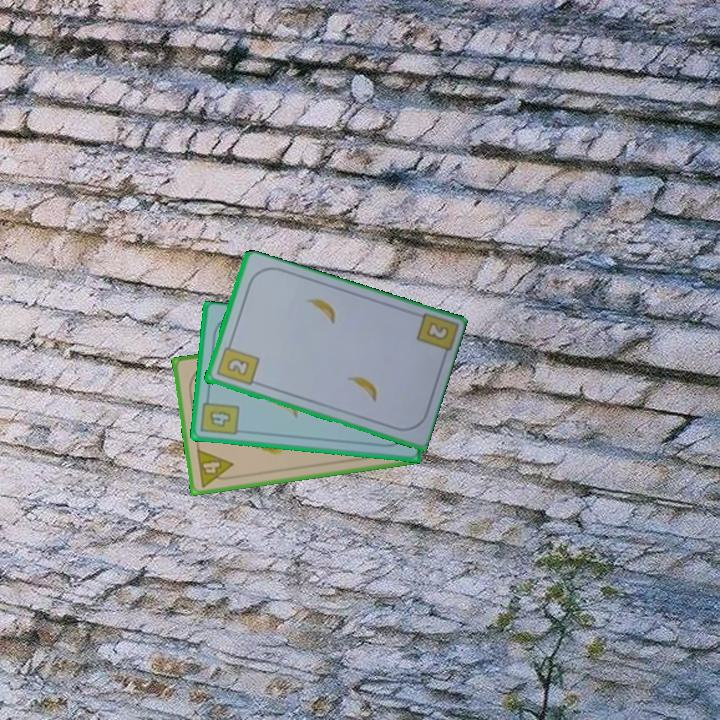2b: (213, 338, 262, 389), (422, 319, 452, 343)
4b: (197, 393, 242, 438)
4p: (193, 445, 238, 490)
